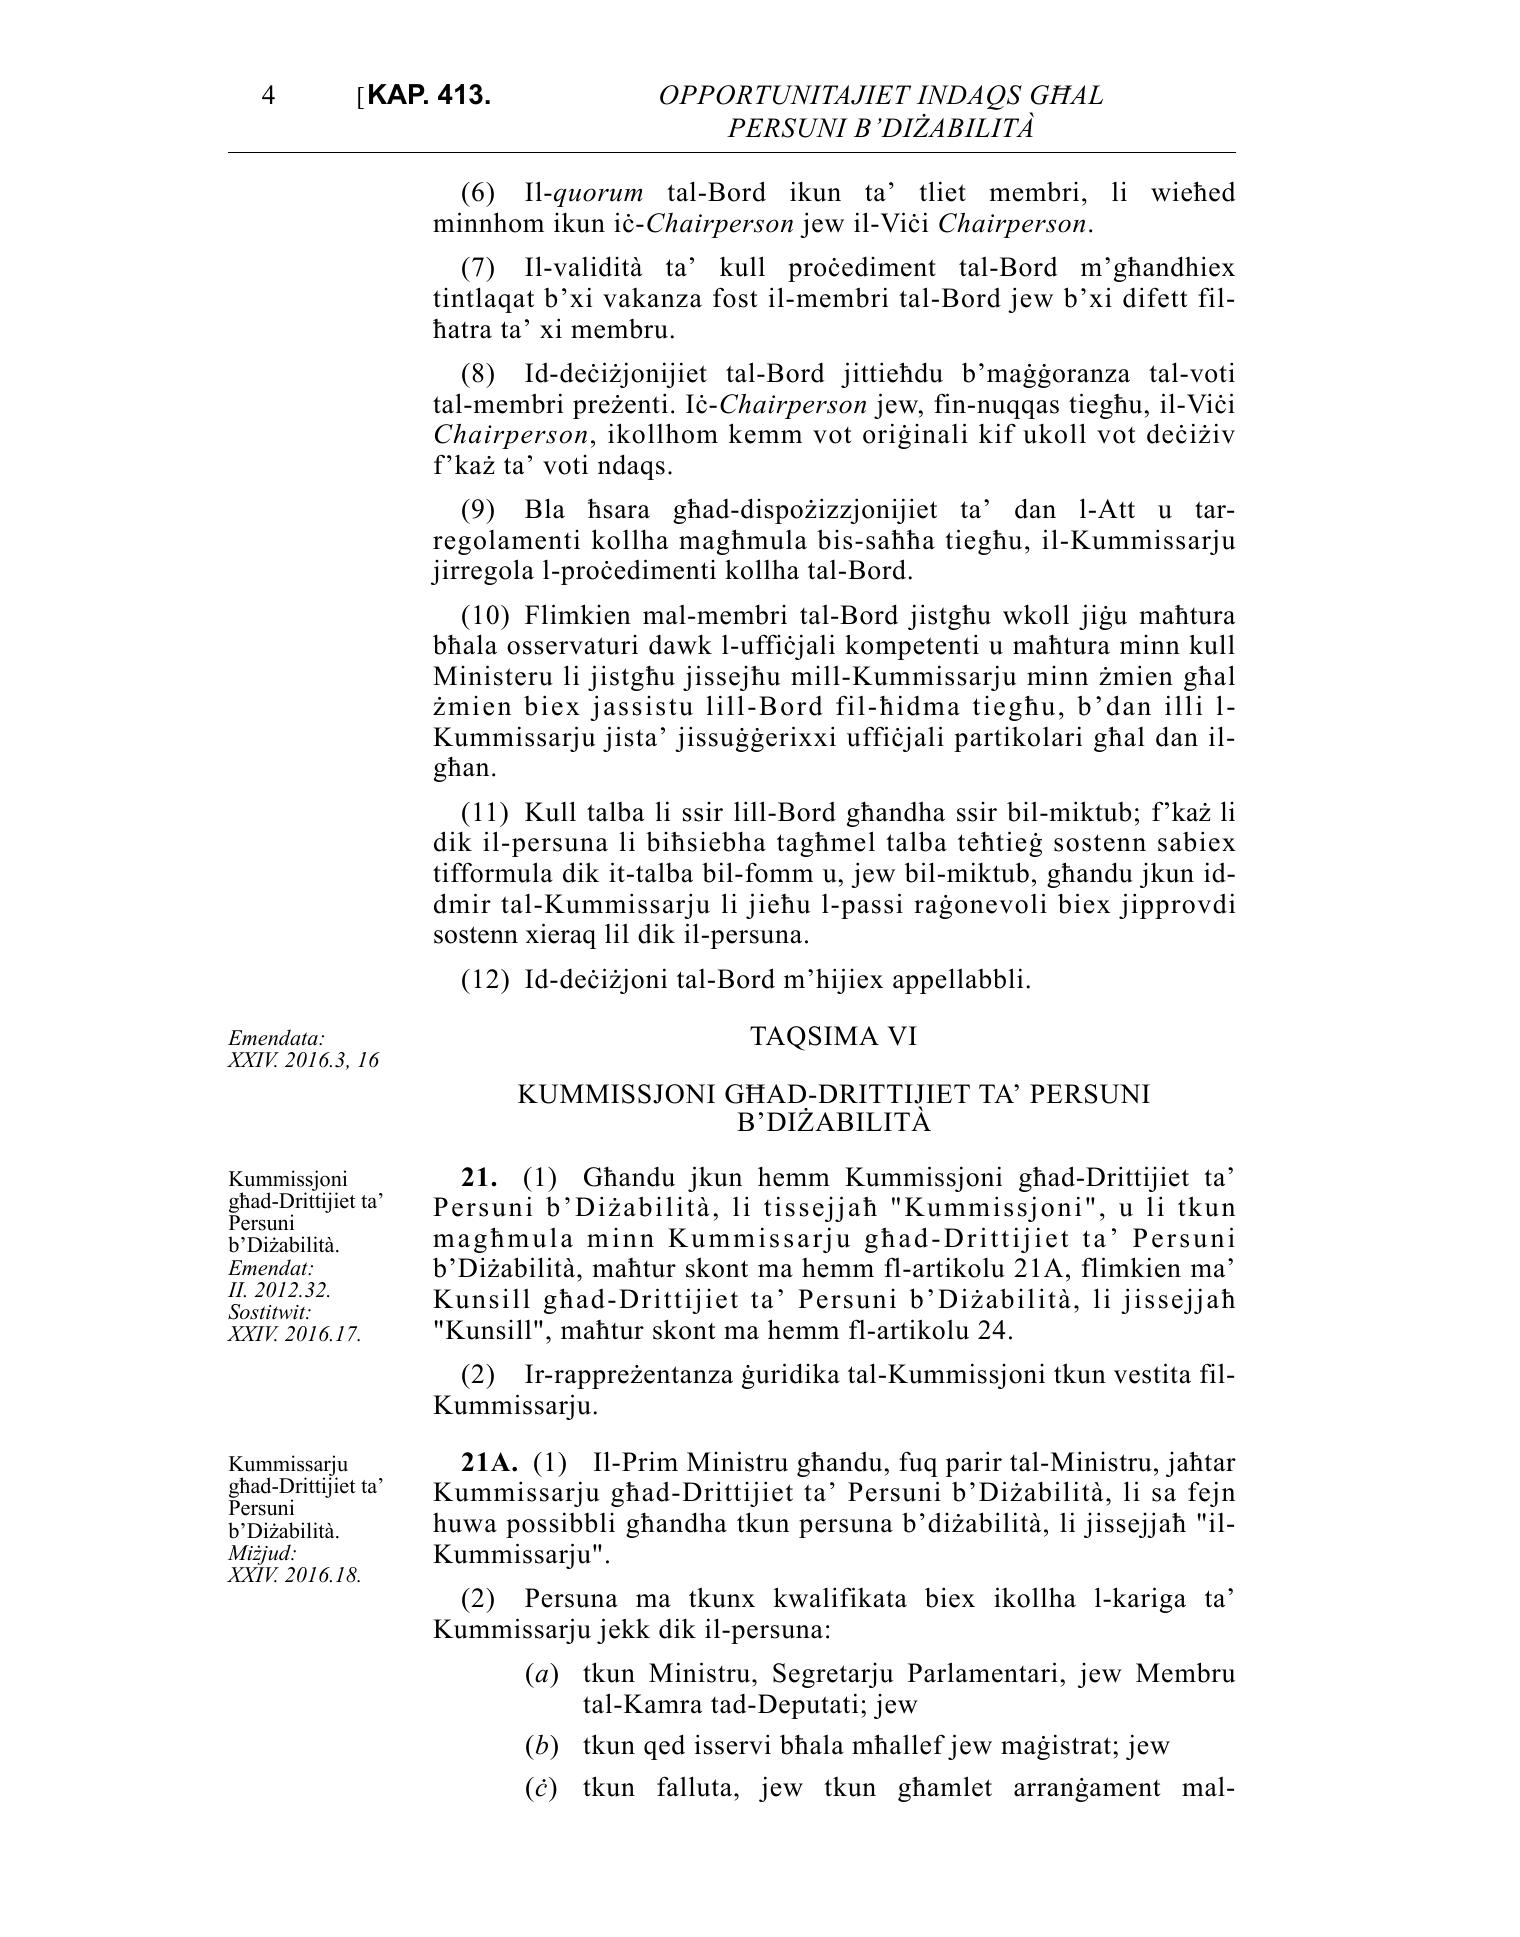text: (420, 167, 1250, 1821)
